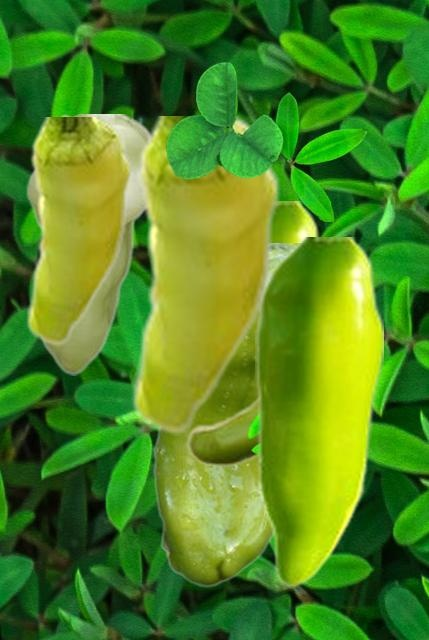green_chili: (153, 243, 295, 586), (130, 116, 280, 434), (255, 237, 382, 587), (23, 114, 148, 374), (25, 117, 132, 345), (185, 394, 256, 464), (273, 201, 324, 242)
